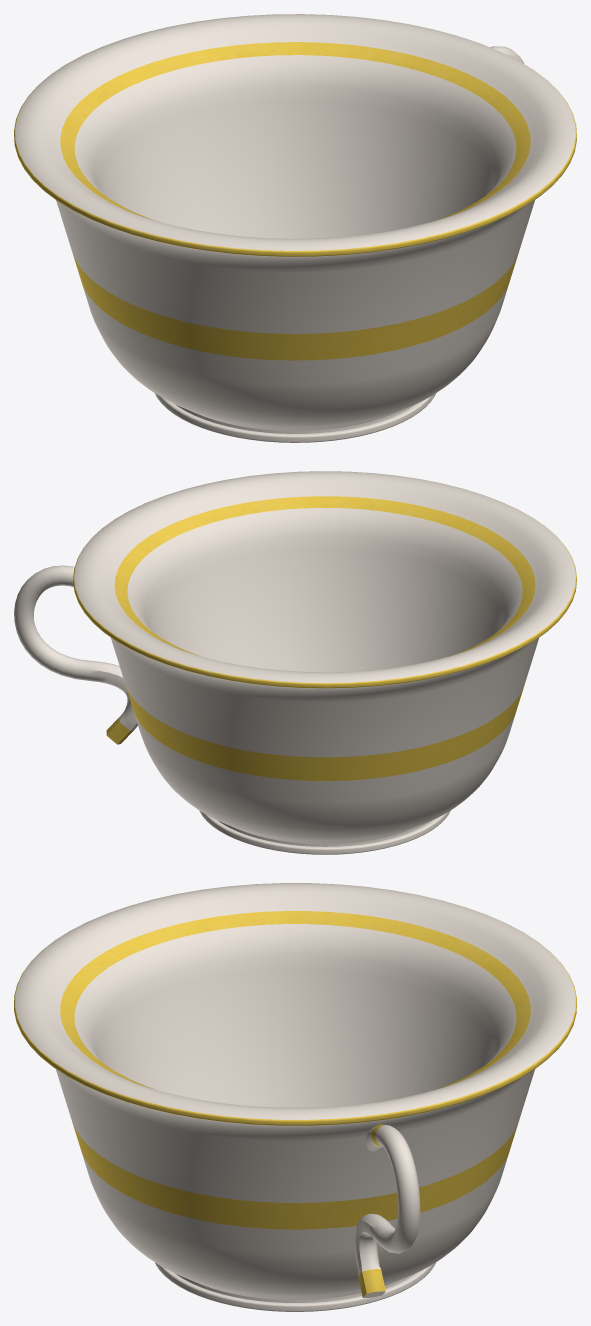
The model's file is TeaCup_Intact.fbx.
3 renders of one model, top to bottom at view 1: azimuth 30°, elevation 25°; view 2: azimuth 150°, elevation 25°; view 3: azimuth 270°, elevation 25°, orthographic. The views are drawn at different scales.
Visible parts, largest first — view 1: Cup1; view 2: Cup1; view 3: Cup1.
Part boxes in pixels (x1,y1,x2,y2): Cup1: [14, 14, 576, 442]; Cup1: [14, 471, 576, 854]; Cup1: [14, 883, 576, 1311].
Size of the model in its own units: 11.95 by 5.43 by 10.93.
